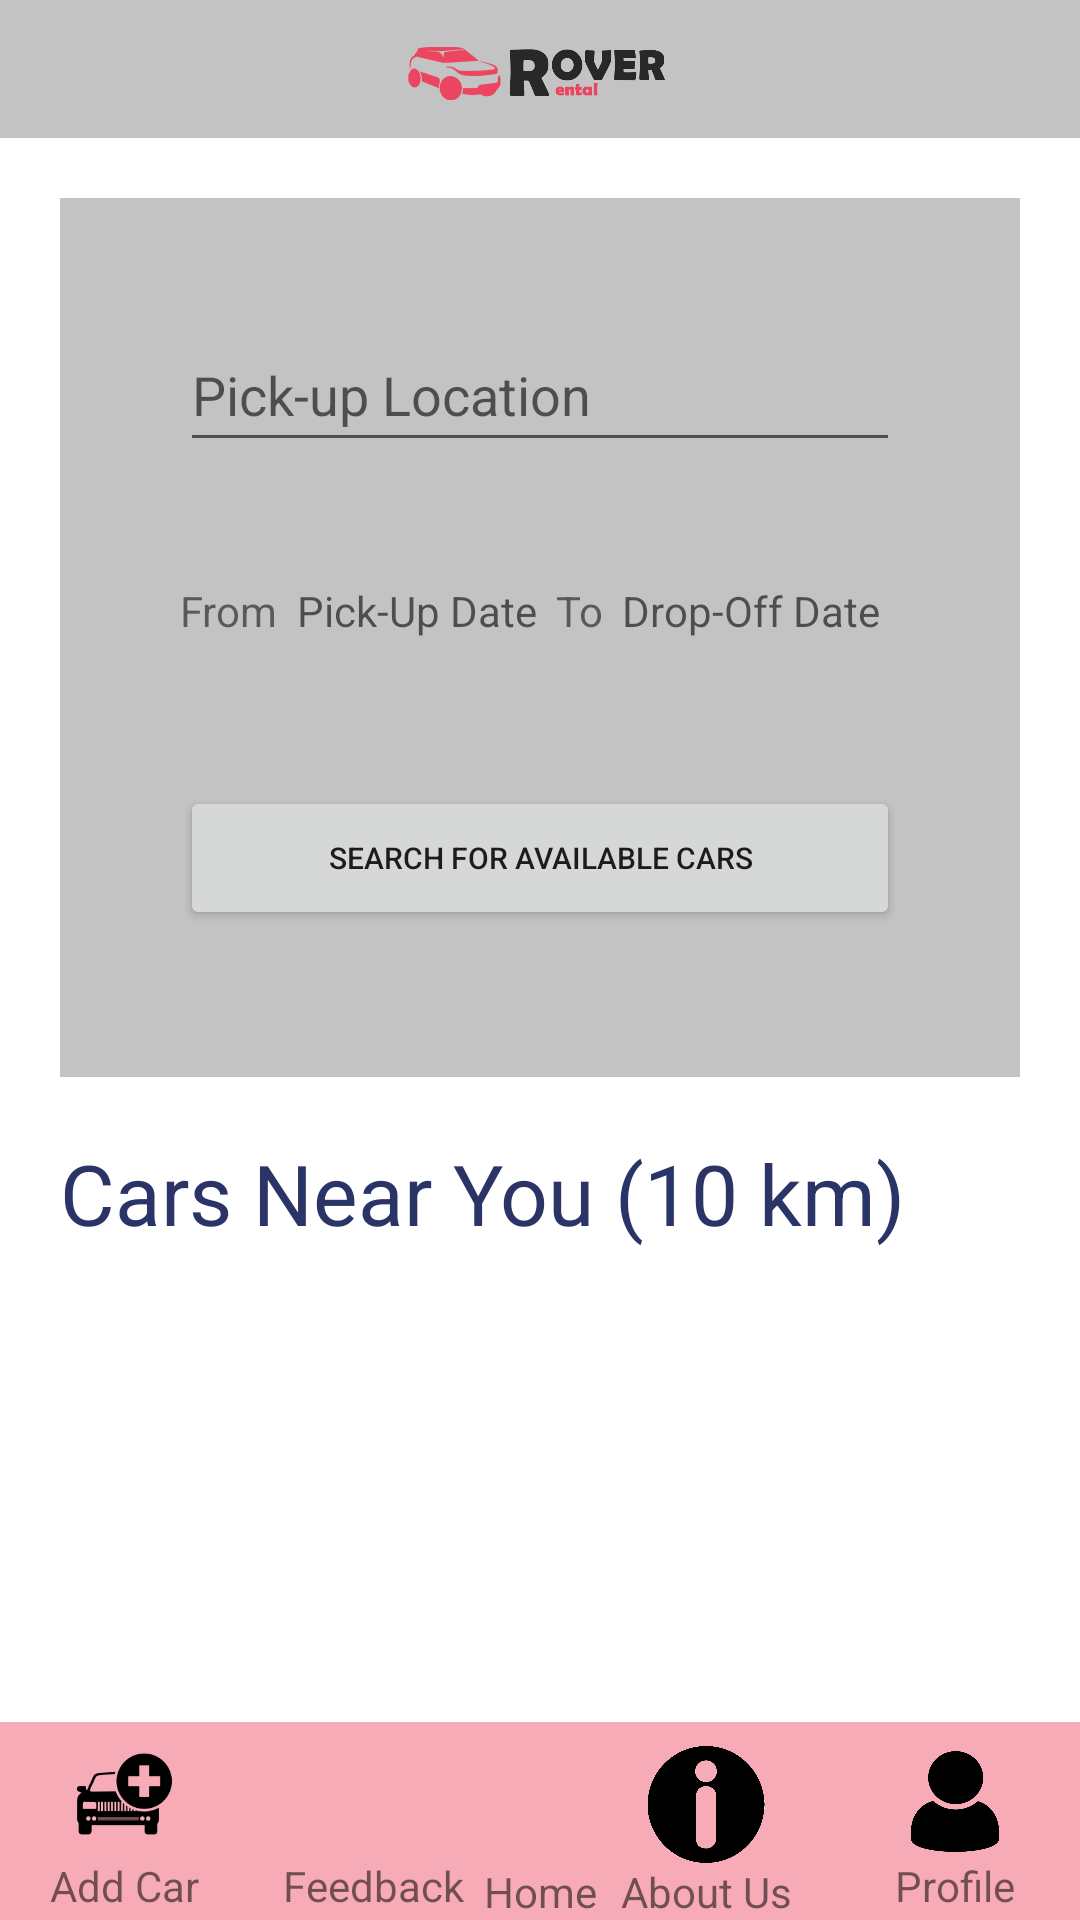

Named icons in this screenshot (1080x1920) and their bounding boxes, (x1,y1,x2,y2):
account: (911,1751,999,1852)
